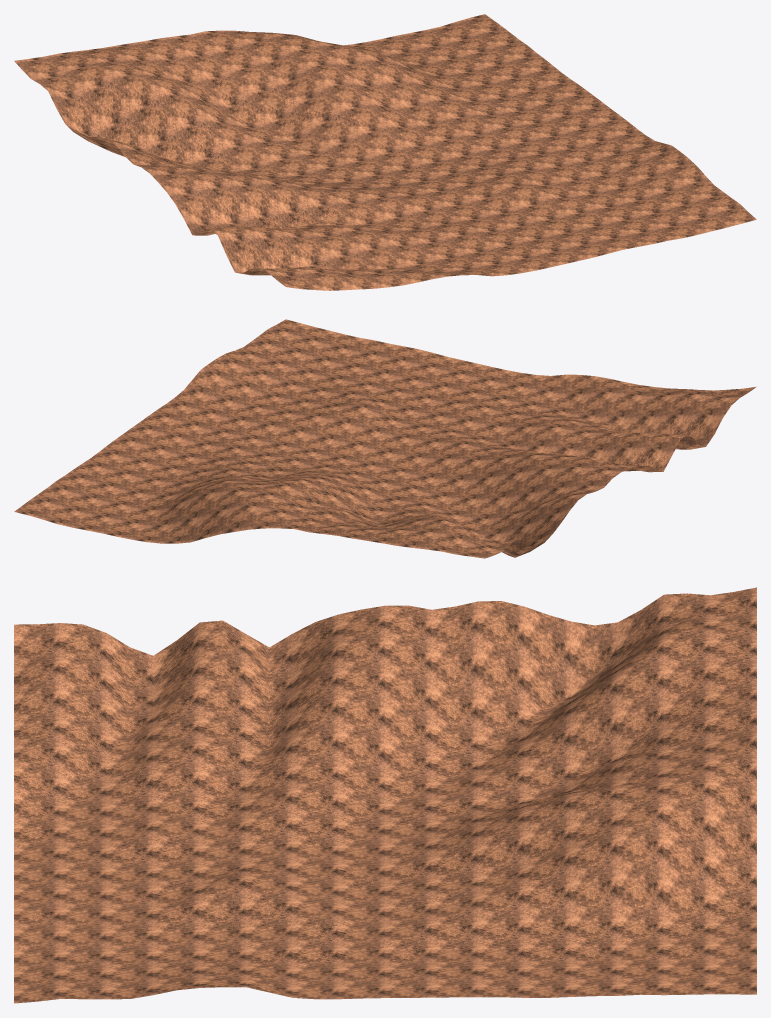
File: terrain_01_01.dae
3 views of the same model, one above another, from view 1: azimuth 30°, elevation 25°; view 2: azimuth 150°, elevation 25°; view 3: azimuth 270°, elevation 25° (orthographic). The views are drawn at different scales.
Parts seen in each view (by area): view 1: terrain_01_01-node; view 2: terrain_01_01-node; view 3: terrain_01_01-node.
Part boxes in pixels (<box>): terrain_01_01-node: <box>14,14,756,290</box>; terrain_01_01-node: <box>14,319,756,558</box>; terrain_01_01-node: <box>14,587,756,1003</box>.
Size of the model in its own units: 128 by 128 by 19.6.
Materials: 1 (1 with a texture image).
